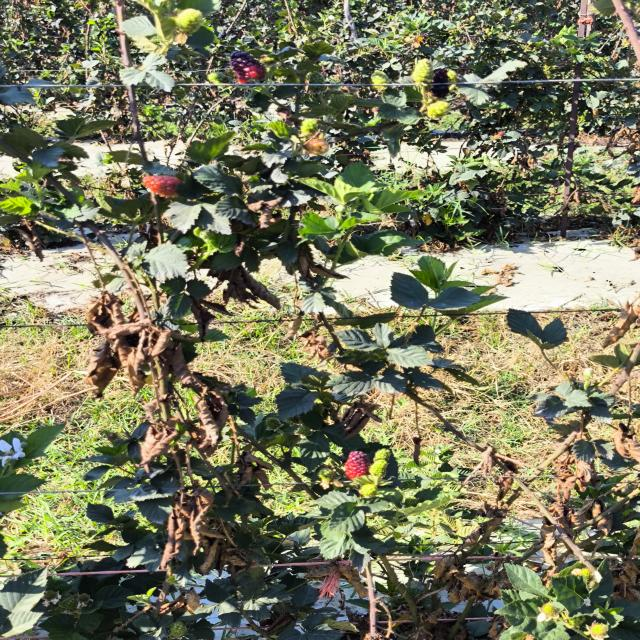marron: (230, 51, 266, 83)
naranja: (142, 175, 182, 197), (345, 451, 369, 480), (303, 138, 329, 155)
verde: (371, 70, 392, 94), (412, 59, 431, 83), (426, 100, 449, 119), (300, 119, 319, 137), (370, 461, 387, 477), (359, 484, 377, 498), (374, 449, 391, 461)
